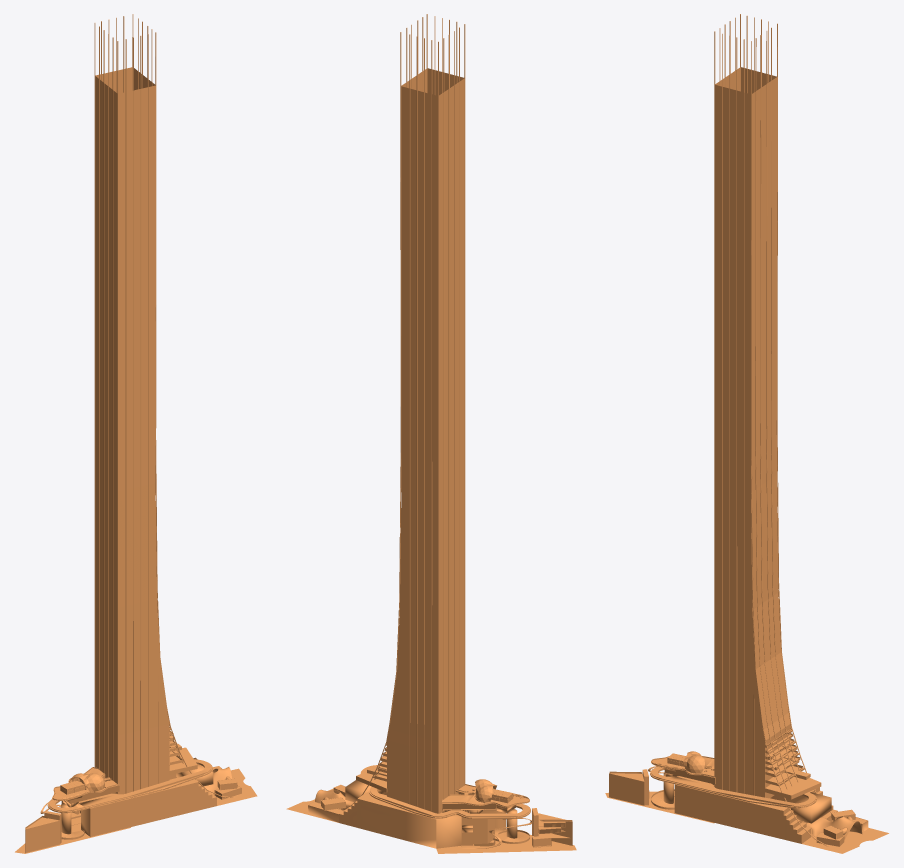
Rendered from SennaTowerRetopoLaranja.glb.
The picture shows the model from 3 angles, left to right: view 1: azimuth 30°, elevation 25°; view 2: azimuth 150°, elevation 25°; view 3: azimuth 330°, elevation 25°; orthographic projection. The views are drawn at different scales.
Parts seen in each view (by area): view 1: Predio_Principal, GradesCurvadas, Cascada_Blocos, Final_Triangulo, Kart, Chao, Chão_Topo, Frente; view 2: Predio_Principal, GradesCurvadas, Cascada_Blocos, Chão_Topo, Final_Triangulo, Chao, Kart, __6861174_.001, Frente; view 3: Predio_Principal, GradesCurvadas, Cascada_Blocos, Final_Triangulo, Chao, Kart, Chão_Topo, MD_Torre_Floreiras, Frente, Sacadas, Cobertura_Frontal.
Boxes of the visible parts, box(x1,y1,x2,y2) form: Predio_Principal: box(95, 67, 169, 794); GradesCurvadas: box(94, 14, 235, 797); Cascada_Blocos: box(80, 757, 216, 836); Final_Triangulo: box(25, 811, 61, 852); Kart: box(49, 759, 211, 811); Chao: box(15, 768, 257, 853); Chão_Topo: box(52, 767, 119, 807); Frente: box(212, 766, 241, 799); Predio_Principal: box(387, 68, 464, 813); GradesCurvadas: box(342, 14, 465, 813); Cascada_Blocos: box(339, 780, 505, 848); Chão_Topo: box(442, 784, 529, 813); Final_Triangulo: box(532, 808, 572, 847); Chao: box(286, 788, 576, 853); Kart: box(362, 765, 529, 817); __6861174_.001: box(461, 817, 495, 846); Frente: box(308, 784, 345, 822); Predio_Principal: box(715, 67, 791, 798); GradesCurvadas: box(714, 14, 831, 846); Cascada_Blocos: box(674, 784, 837, 843); Final_Triangulo: box(609, 769, 649, 805); Chao: box(605, 791, 888, 853); Kart: box(651, 767, 815, 806); Chão_Topo: box(651, 756, 715, 784); MD_Torre_Floreiras: box(766, 729, 810, 786); Frente: box(816, 809, 868, 846); Sacadas: box(764, 777, 821, 799); Cobertura_Frontal: box(806, 816, 862, 840).
Size of the model in its own units: 411 by 1212 by 117.
